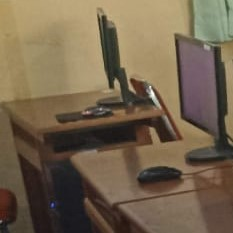monitor: (173, 33, 231, 157), (97, 9, 120, 91)
